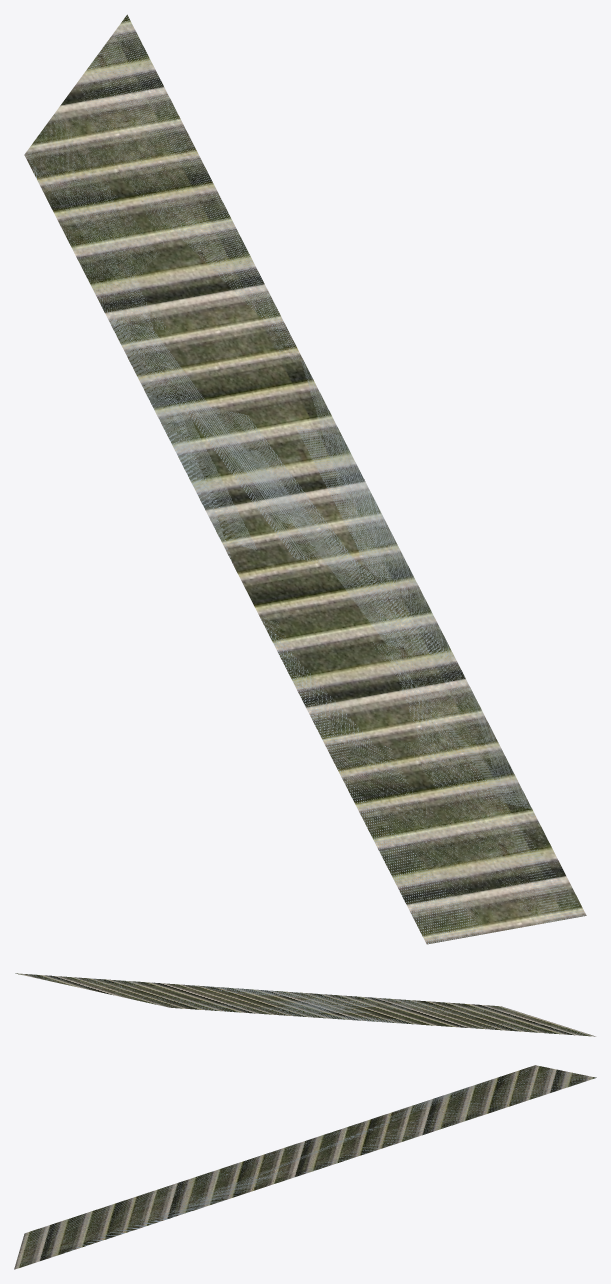
File: 西庸城堡372.dae
3 views of the same model, one above another, from view 1: azimuth 30°, elevation 25°; view 2: azimuth 150°, elevation 25°; view 3: azimuth 270°, elevation 25° (orthographic). The views are drawn at different scales.
Parts seen in each view (by area): view 1: SketchUp; view 2: SketchUp; view 3: SketchUp.
Boxes of the visible parts, x1,y1,x2,y2 form: SketchUp: (24, 14, 586, 944); SketchUp: (15, 973, 595, 1036); SketchUp: (14, 1065, 596, 1269).
Size of the model in its own units: 153 by 566 by 238.
